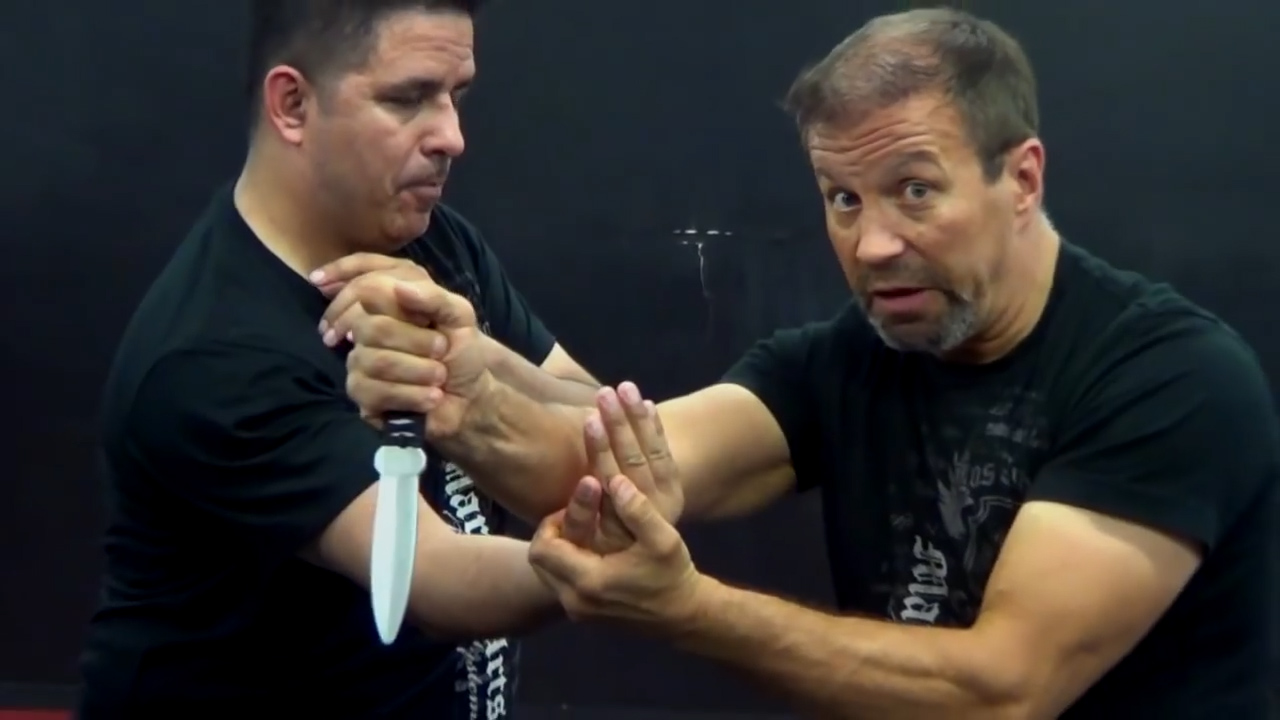knife: (333, 275, 470, 653)
